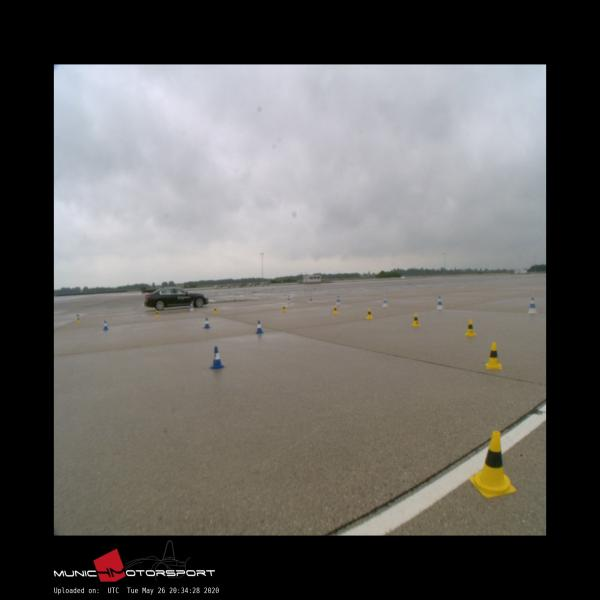blue_cone: (210, 347, 224, 368), (254, 321, 264, 333), (203, 318, 210, 328), (102, 321, 109, 330)
yellow_cone: (469, 431, 516, 498), (485, 342, 502, 369), (465, 319, 476, 336), (411, 312, 420, 326), (366, 308, 373, 319), (333, 306, 338, 314), (282, 304, 286, 312), (155, 310, 159, 316), (214, 307, 217, 313), (77, 316, 80, 322)
